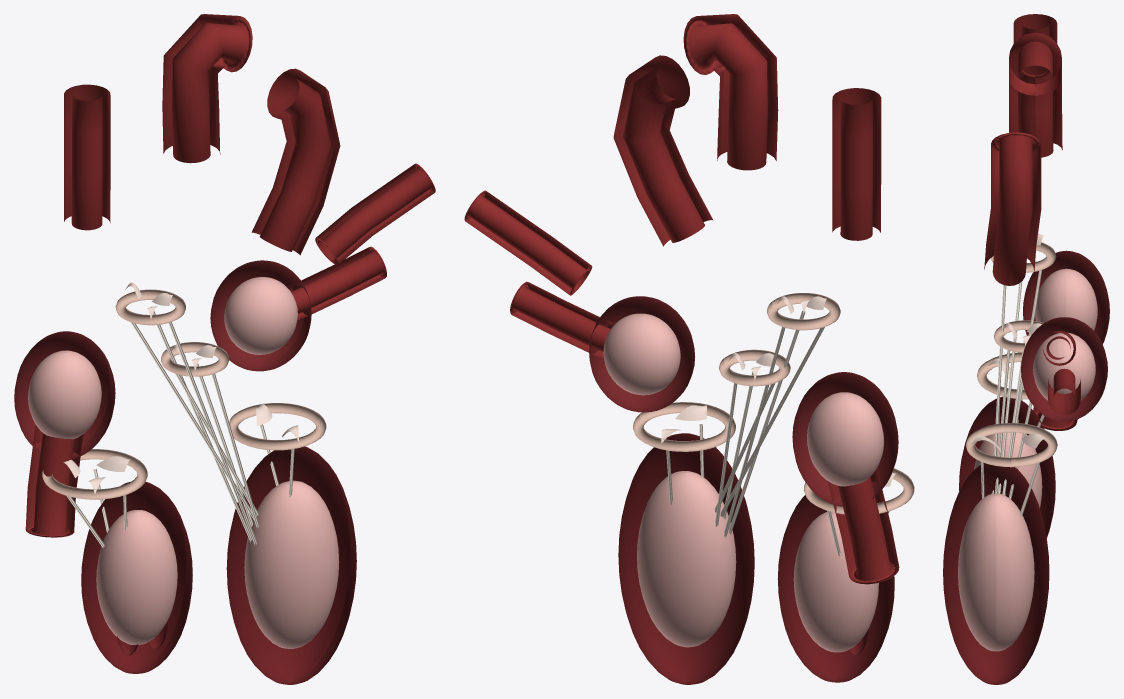
Rendered from heart_segmented_aortic_leaky.glb.
The picture shows the model from 3 angles, left to right: view 1: azimuth 30°, elevation 25°; view 2: azimuth 150°, elevation 25°; view 3: azimuth 270°, elevation 25°; orthographic projection. The views are drawn at different scales.
Parts seen in each view (by area): view 1: WallLV, WallRV, PulmonaryTrunk, WallRA, Aorta, WallLA, SVC, PulmonaryVeinL, IVC, PulmonaryVeinR, AnnulusMitral, AnnulusTricuspid (+6 smaller); view 2: WallLV, WallRV, PulmonaryTrunk, WallRA, Aorta, WallLA, SVC, PulmonaryVeinL, IVC, PulmonaryVeinR, AnnulusMitral, AnnulusAortic (+5 smaller); view 3: WallLV, PulmonaryTrunk, WallLA, Aorta, WallRA, WallRV, AnnulusMitral, PulmonaryVeinR, SVC, AnnulusTricuspid, AnnulusPulmonary, ChordaeAortic2 (+7 smaller).
Boxes of the visible parts, x1,y1,x2,y2 form: WallLV: [226, 446, 356, 684]; WallRV: [81, 482, 192, 673]; PulmonaryTrunk: [251, 68, 340, 255]; WallRA: [14, 331, 115, 458]; Aorta: [162, 14, 252, 163]; WallLA: [210, 260, 311, 371]; SVC: [64, 84, 110, 230]; PulmonaryVeinL: [315, 163, 435, 264]; IVC: [25, 425, 83, 537]; PulmonaryVeinR: [287, 246, 386, 320]; AnnulusMitral: [229, 403, 326, 450]; AnnulusTricuspid: [42, 449, 147, 499]; WallLV: [618, 433, 754, 684]; WallRV: [777, 495, 894, 682]; PulmonaryTrunk: [613, 55, 713, 246]; WallRA: [792, 372, 898, 506]; Aorta: [683, 14, 778, 170]; WallLA: [589, 296, 694, 412]; SVC: [832, 88, 881, 240]; PulmonaryVeinL: [464, 190, 592, 295]; IVC: [828, 468, 899, 584]; PulmonaryVeinR: [510, 281, 614, 358]; AnnulusMitral: [633, 402, 735, 451]; AnnulusAortic: [767, 293, 840, 330]; WallLV: [943, 463, 1049, 684]; PulmonaryTrunk: [984, 132, 1041, 285]; WallLA: [1021, 317, 1107, 421]; Aorta: [1009, 32, 1062, 157]; WallRA: [1023, 250, 1109, 343]; WallRV: [959, 397, 1055, 537]; AnnulusMitral: [966, 423, 1057, 467]; PulmonaryVeinR: [1048, 368, 1080, 415]; SVC: [1013, 14, 1057, 43]; AnnulusTricuspid: [977, 352, 1028, 399]; AnnulusPulmonary: [994, 320, 1043, 352]; ChordaeAortic2: [998, 281, 1022, 493].
Size of the model in its own units: 0.0906 by 0.1416 by 0.0345.
Materials: 9 (3 with a texture image).
